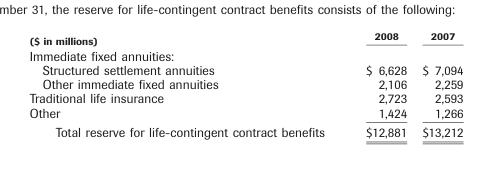table: (28, 29, 462, 139)
table column: (28, 29, 344, 139), (344, 29, 413, 139), (413, 29, 462, 139)
table column header: (28, 29, 462, 47)
table projected row header: (28, 47, 462, 62)
table row: (28, 29, 462, 47), (28, 121, 462, 139), (28, 105, 462, 121), (28, 47, 462, 62), (28, 90, 462, 105), (28, 62, 462, 76), (28, 76, 462, 90)
